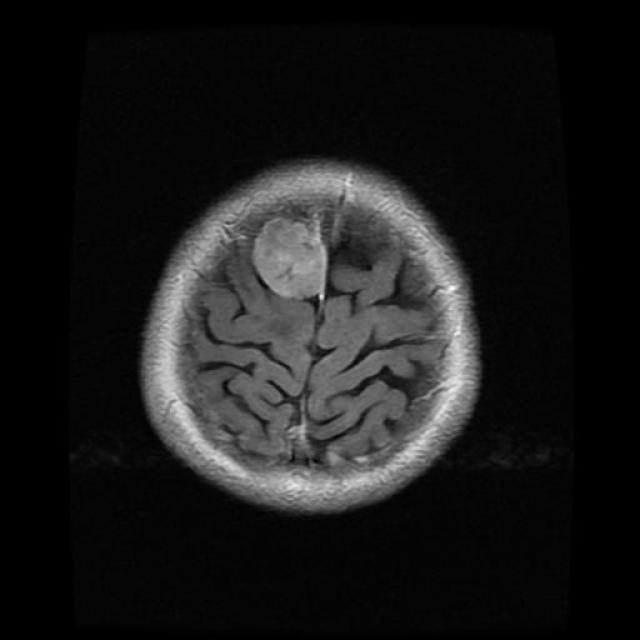meningioma: (251, 215, 329, 300)
